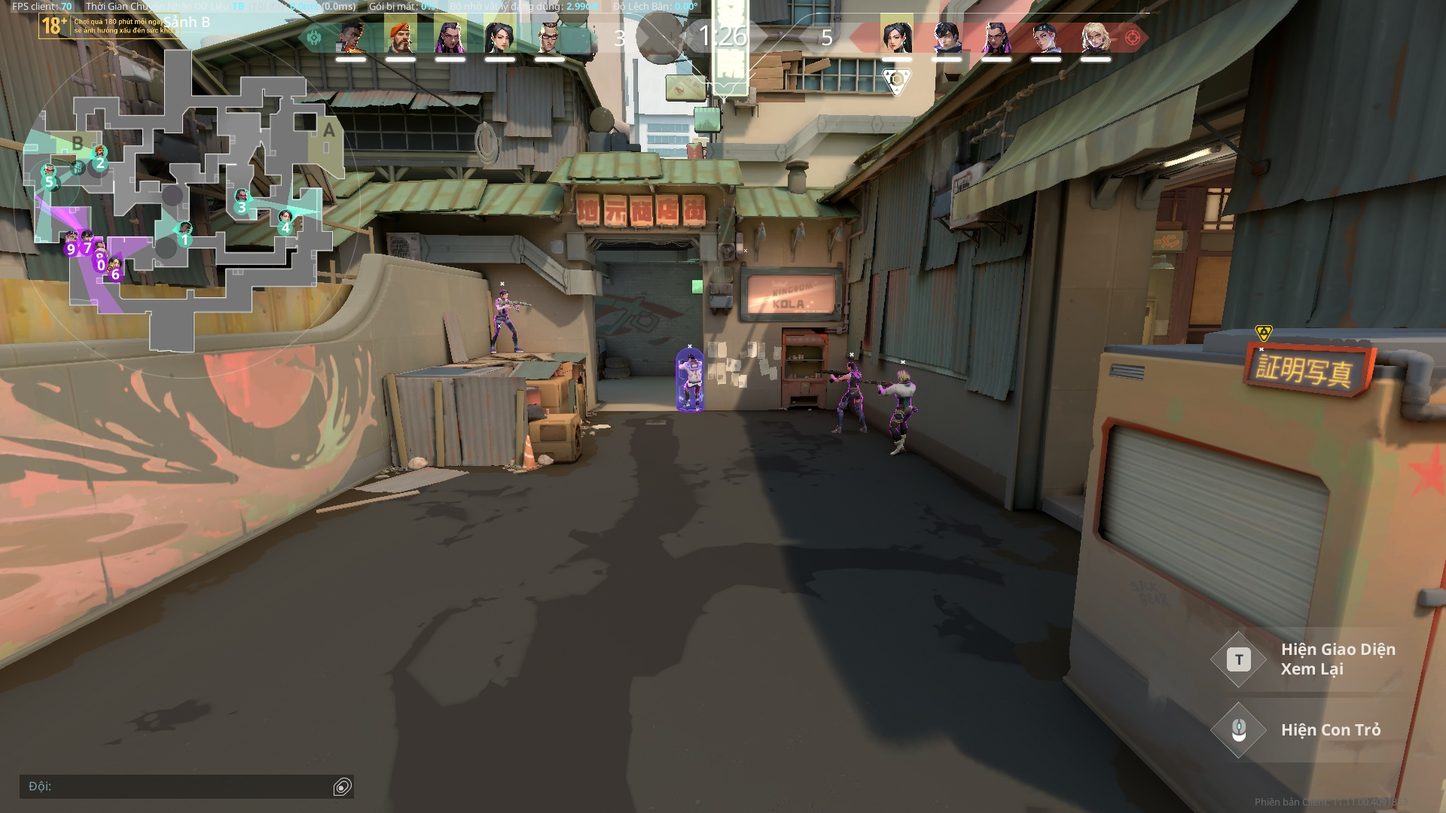body: (890, 381, 917, 408), (686, 360, 703, 381), (844, 373, 862, 391), (495, 297, 511, 317)
head: (897, 370, 910, 382), (499, 288, 510, 299), (846, 361, 855, 372), (688, 354, 696, 361)
